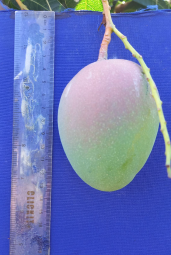Mango-sano: (58, 59, 158, 190)
